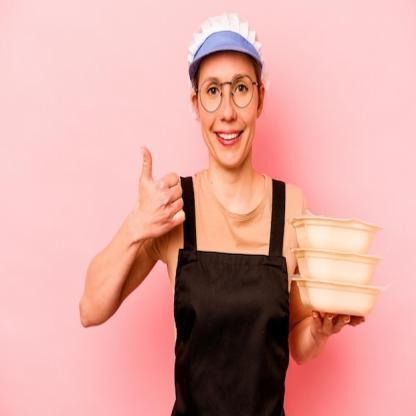thumb_up: (130, 144, 186, 244)
